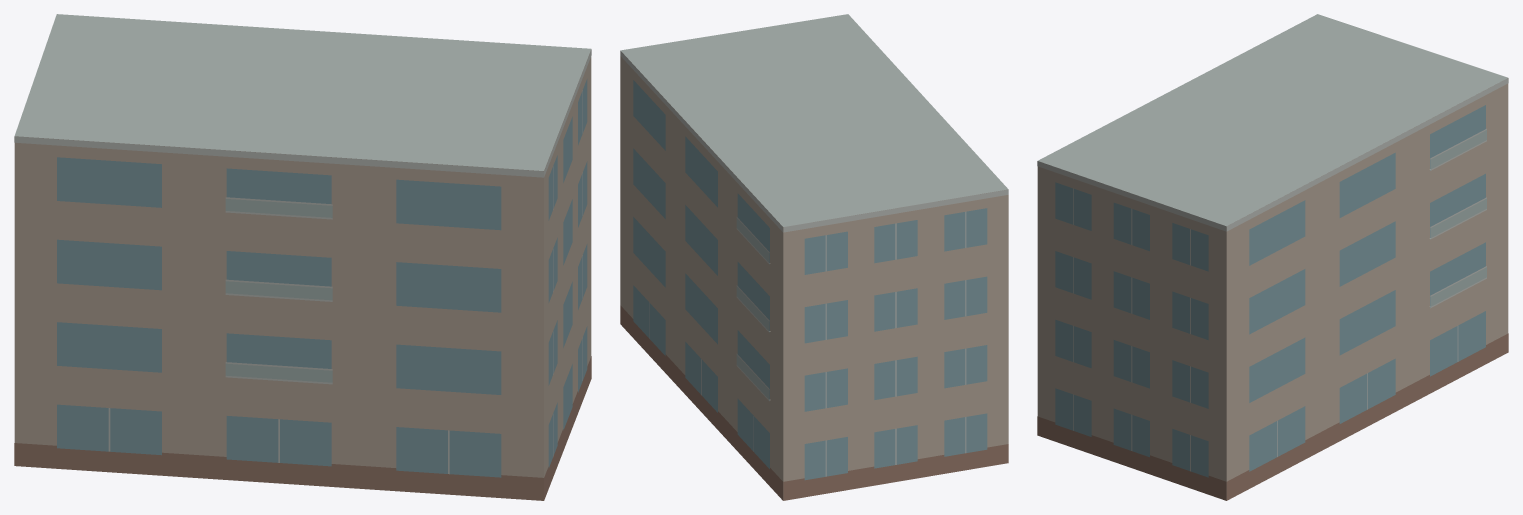
The model's file is survey-upis-32655981.glb.
3 renders of one model, left to right at view 1: azimuth 30°, elevation 25°; view 2: azimuth 150°, elevation 25°; view 3: azimuth 270°, elevation 25°, orthographic. The views are drawn at different scales.
Visible parts, largest first — view 1: survey-upis-32655981.tmp; view 2: survey-upis-32655981.tmp; view 3: survey-upis-32655981.tmp.
Boxes of the visible parts, x1,y1,x2,y2 form: survey-upis-32655981.tmp: (14,14,591,500); survey-upis-32655981.tmp: (620,14,1008,500); survey-upis-32655981.tmp: (1037,14,1508,500).
Size of the model in its own units: 20.46 by 12.34 by 19.18.
